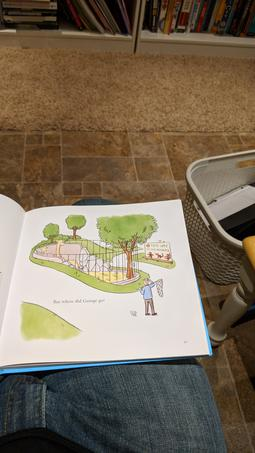text block: (48, 295, 110, 305)
